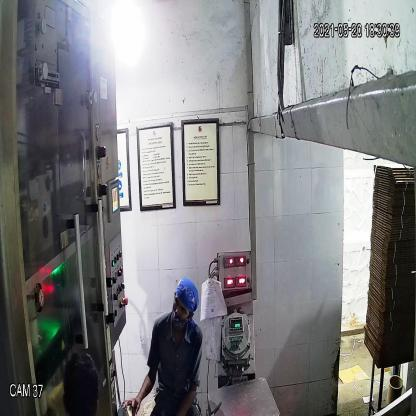no_goggles: (170, 296, 190, 317)
